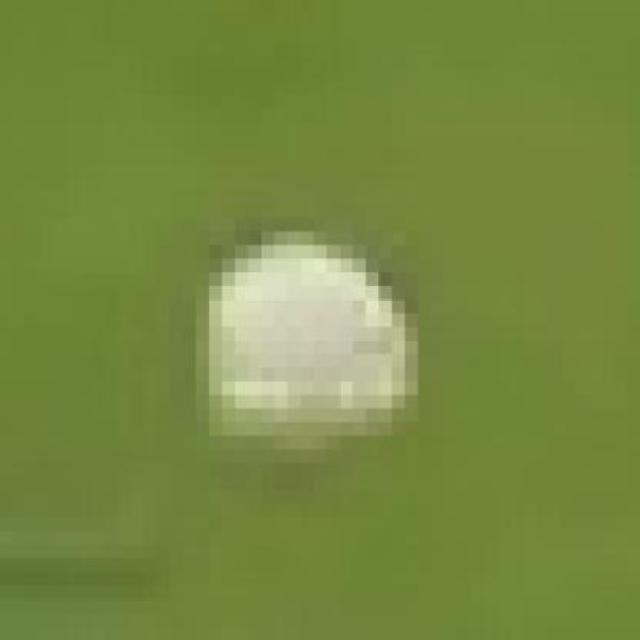Cricket ball: (202, 231, 423, 467)
